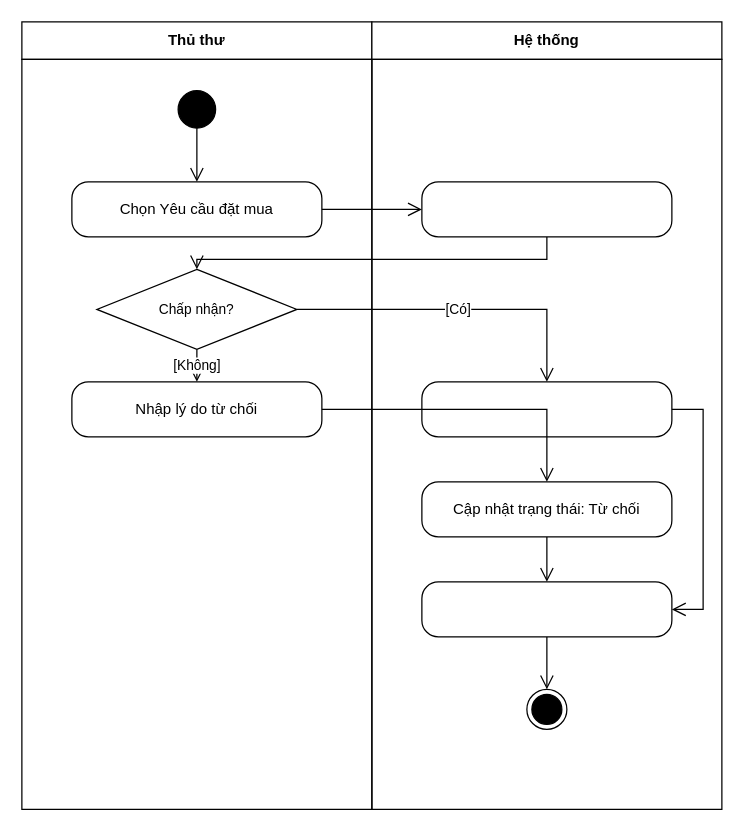
Image size: 744x831. Some labels were removed from this diagram. The box of each missing label's shape, as (x1, y1, x2, y2) in pixels:
Cập nhật trạng thái: Chấp nhận: (421, 381, 672, 437)
Gửi thông báo kết quả cho độc giả: (421, 581, 672, 637)
Hiển thị yêu cầu đang chờ duyệt: (421, 181, 672, 237)
